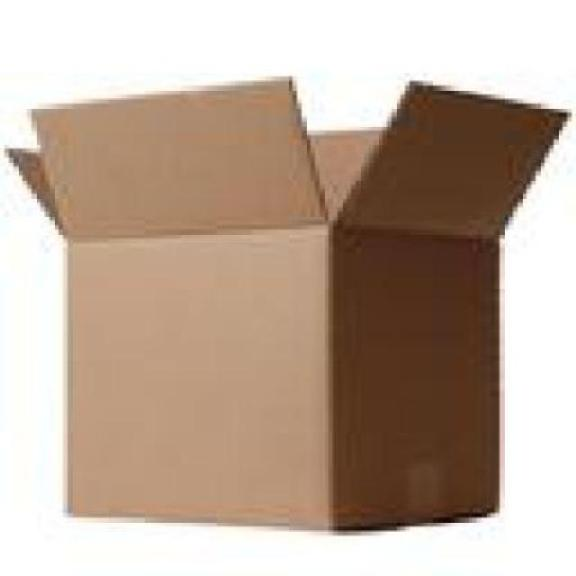Kertas: (9, 79, 567, 527)
